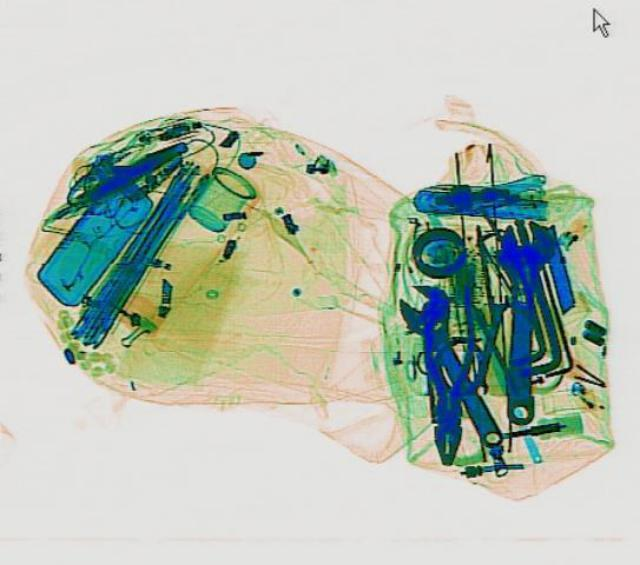Pliers: (415, 280, 477, 465)
Wrench: (384, 272, 528, 453), (492, 219, 556, 424)
